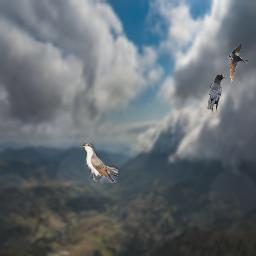Crow: (207, 74, 225, 114)
Cuckoo: (82, 143, 118, 183)
Swallow: (228, 43, 248, 83)
